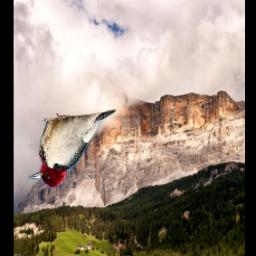Woodpecker: (29, 110, 117, 188)
